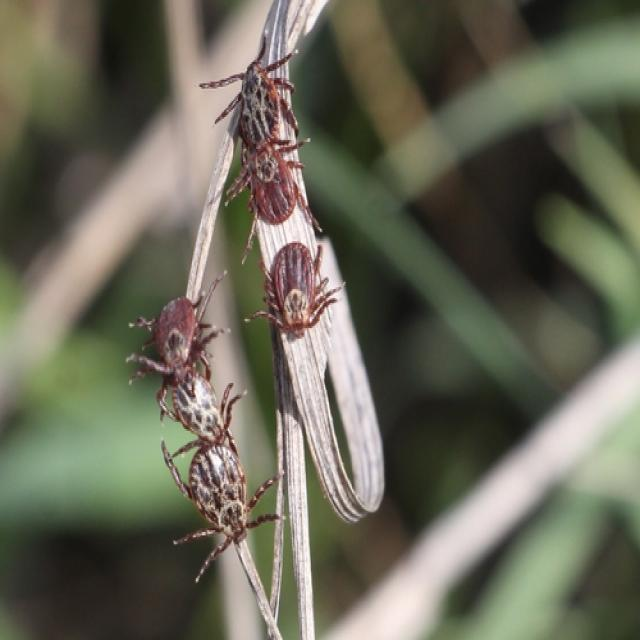Dermacentor Reticulatus-F: (244, 243, 343, 340)
Dermacentor Reticulatus-M: (161, 429, 280, 585)
